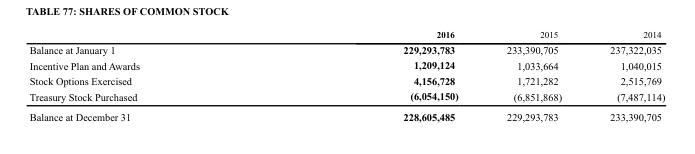table: (28, 29, 664, 122)
table column: (28, 29, 270, 122), (270, 29, 481, 122), (481, 29, 585, 122), (585, 29, 664, 122)
table column header: (28, 29, 664, 41)
table row: (28, 88, 664, 106), (28, 41, 664, 57), (28, 72, 664, 88), (28, 106, 664, 122), (28, 57, 664, 72), (28, 29, 664, 41)
